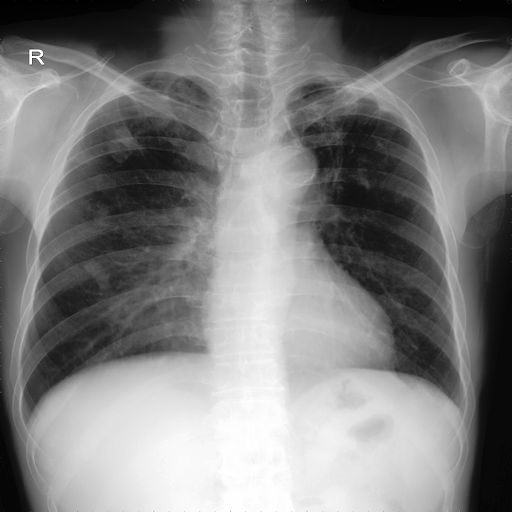Calcification: (324, 73, 403, 116), (367, 89, 407, 116)
Consolidation: (262, 144, 315, 189)
Other lesion: (117, 93, 190, 152), (82, 256, 109, 290)
Pleural thickening: (99, 72, 197, 162), (82, 256, 109, 290)
Pneumothorax: (299, 102, 390, 191), (108, 84, 195, 161)
Pulmonary fibrosis: (107, 131, 135, 164)
